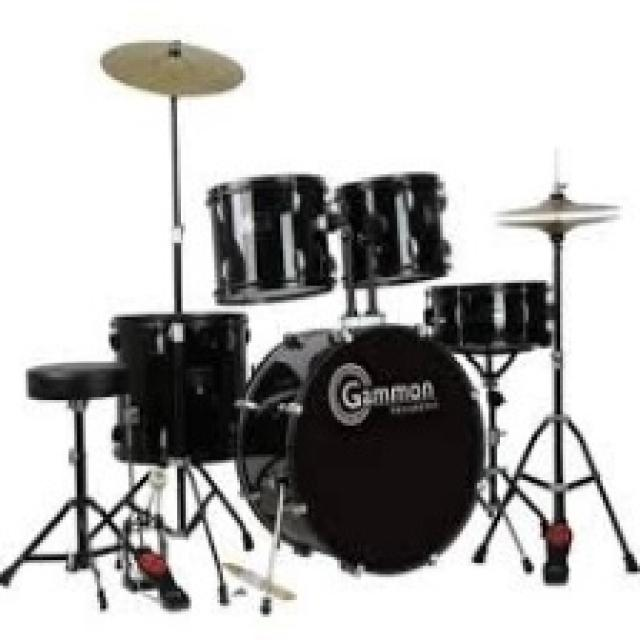drums: (21, 32, 616, 581)
